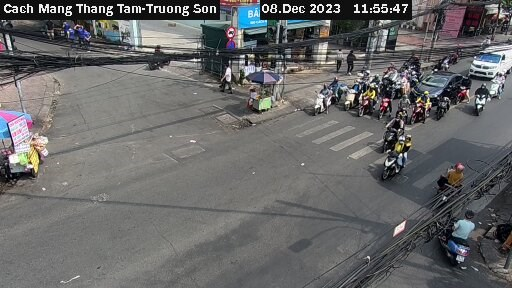car: (412, 71, 470, 99), (470, 39, 512, 77)
motorbike: (435, 207, 486, 265), (379, 143, 418, 184), (434, 158, 470, 199), (375, 112, 409, 146), (485, 72, 510, 105), (309, 85, 334, 113), (413, 95, 437, 123), (470, 83, 490, 116), (358, 85, 376, 115), (394, 96, 414, 122), (341, 80, 360, 107), (439, 93, 455, 120), (327, 77, 346, 96)
